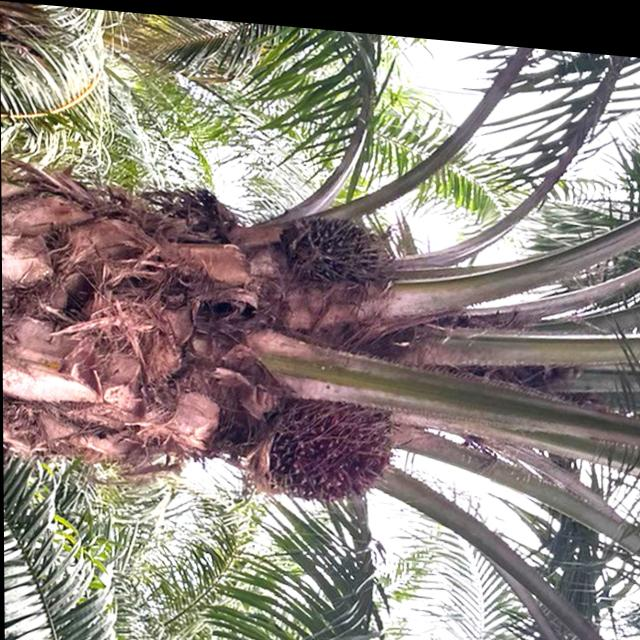ripe: (265, 380, 402, 500), (278, 200, 396, 285)
